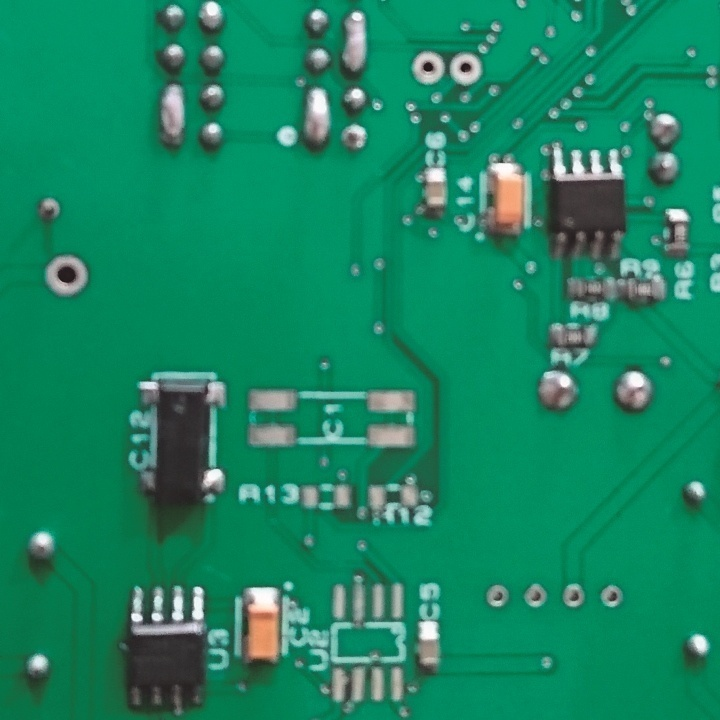F: (46, 252, 89, 300), (448, 50, 481, 88), (410, 49, 442, 86), (481, 580, 513, 612), (341, 122, 367, 155), (521, 580, 548, 611), (561, 580, 584, 614), (601, 581, 624, 612), (38, 195, 63, 222)
P: (339, 9, 371, 77), (159, 80, 188, 150), (305, 83, 332, 151)
